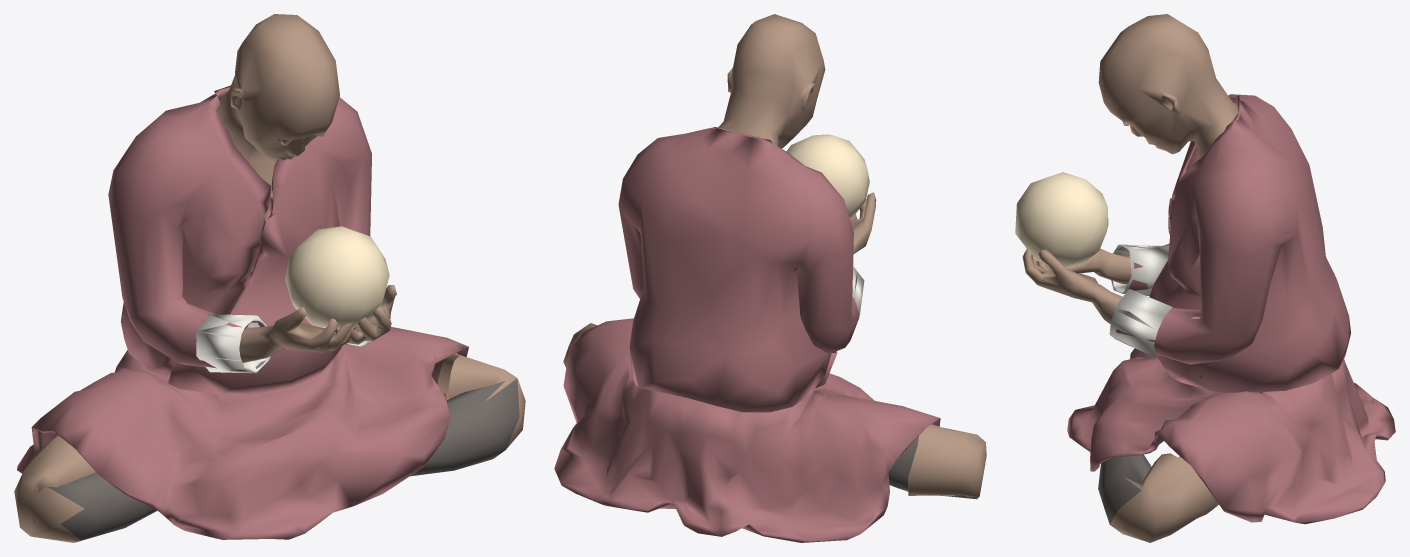
File: figure-far.glb
The picture shows the model from 3 angles, left to right: view 1: azimuth 30°, elevation 25°; view 2: azimuth 150°, elevation 25°; view 3: azimuth 270°, elevation 25°; orthographic projection. The views are drawn at different scales.
Parts seen in each view (by area): view 1: figure; view 2: figure; view 3: figure.
Part boxes in pixels (left/top/right/bottom): figure: left=14, top=14, right=525, bottom=542; figure: left=554, top=14, right=986, bottom=542; figure: left=1015, top=14, right=1395, bottom=542.
Size of the model in its own units: 0.8847 by 0.8323 by 0.6585.
